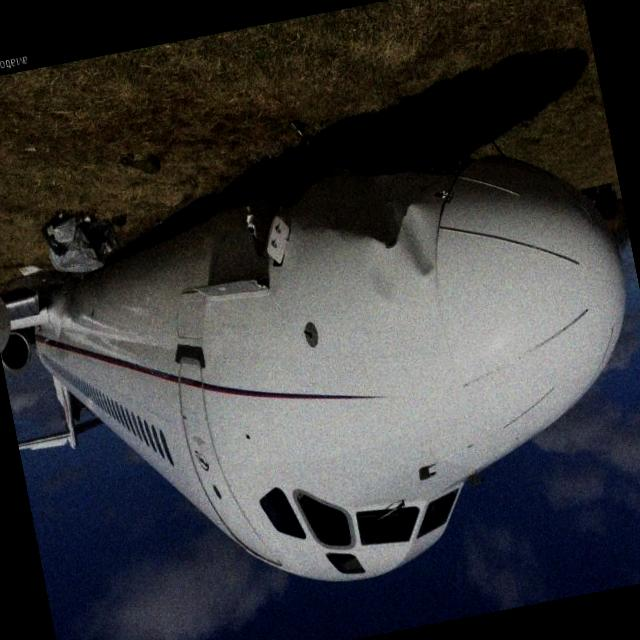dent: (392, 204, 442, 282), (361, 236, 403, 302)
